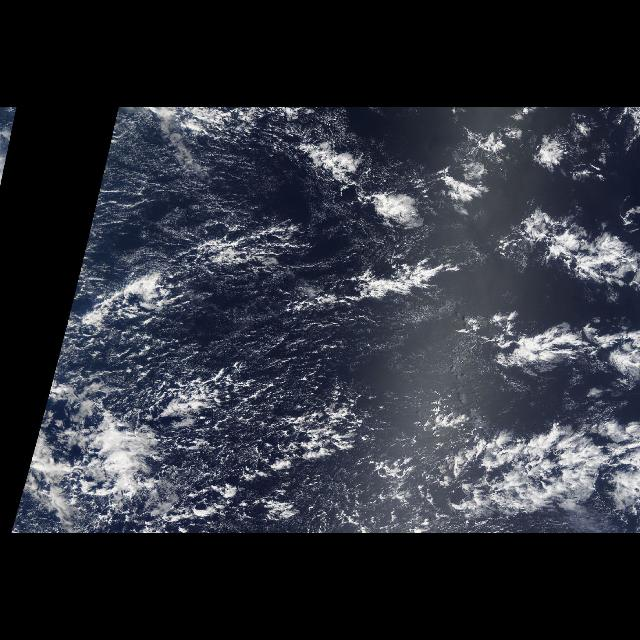Gravel: (34, 401, 358, 534)
Sugar: (82, 138, 360, 388)
